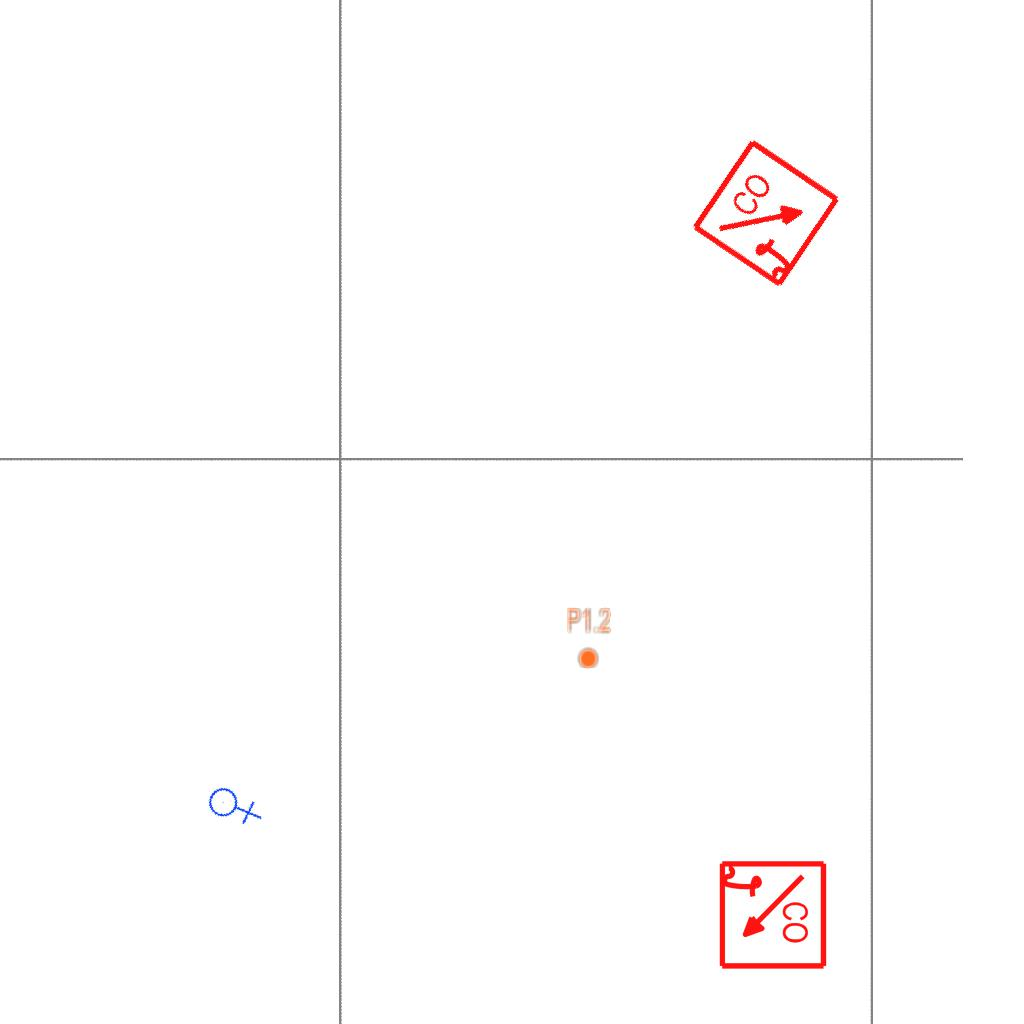Downlight_LED_Einbauleuchten_Flur: (566, 606, 612, 670)
Elektroanschluss_allgemein_230V_Geraeteanschlussdose_230V: (202, 772, 265, 837)
ROA_Rauchmelder_optisch_mit_Signalgeber_(Sockelsirene): (689, 135, 846, 292), (715, 859, 828, 972)
